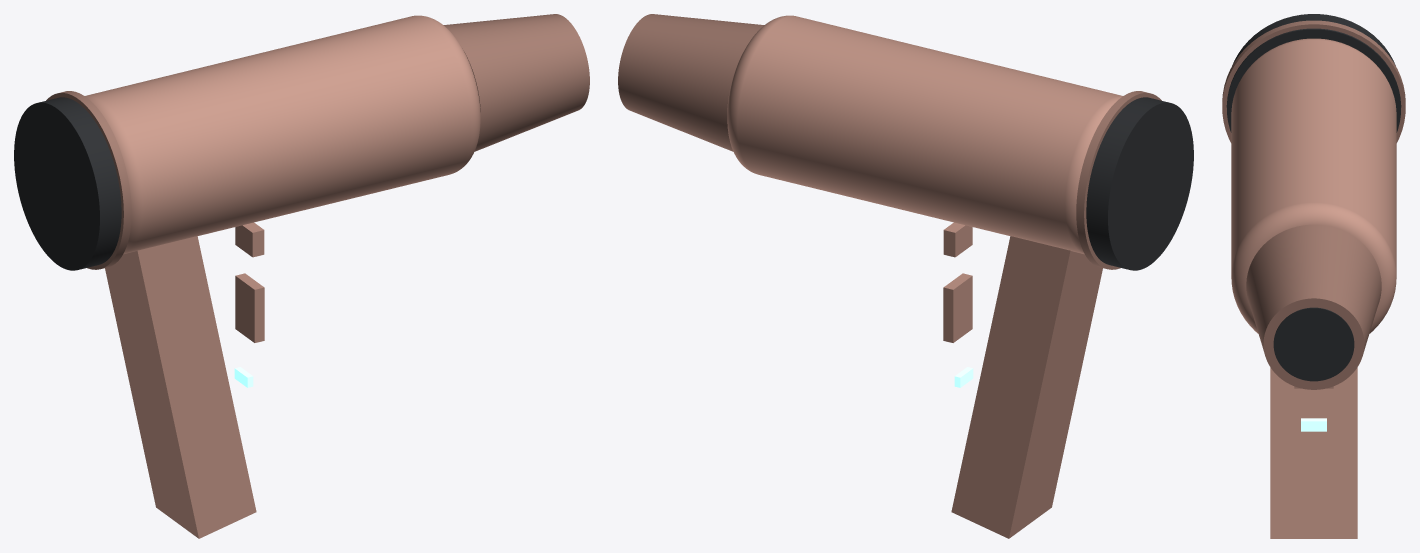
3 renders of one model, left to right at view 1: azimuth 30°, elevation 25°; view 2: azimuth 150°, elevation 25°; view 3: azimuth 270°, elevation 25°, orthographic.
Visible parts, largest first — view 1: body.1, body.2, coat.2, accent.1, accent.2, button.1, button.2; view 2: body.1, body.2, coat.2, accent.1, accent.2, button.1, button.2; view 3: body.1, body.2, accent.1, coat.1, coat.2, accent.2, led.1.
Boxes of the visible parts, left/top/right/bottom form: body.1: left=85, top=15, right=480, bottom=254; body.2: left=105, top=236, right=256, bottom=538; coat.2: left=14, top=97, right=121, bottom=270; accent.1: left=443, top=14, right=589, bottom=151; accent.2: left=46, top=91, right=131, bottom=269; button.1: left=235, top=273, right=264, bottom=342; button.2: left=235, top=222, right=264, bottom=257; body.1: left=727, top=15, right=1122, bottom=254; body.2: left=951, top=236, right=1102, bottom=538; coat.2: left=1086, top=97, right=1193, bottom=270; accent.1: left=618, top=14, right=764, bottom=151; accent.2: left=1076, top=91, right=1161, bottom=269; button.1: left=943, top=273, right=972, bottom=342; button.2: left=943, top=222, right=972, bottom=257; body.1: left=1231, top=38, right=1396, bottom=333; body.2: left=1270, top=367, right=1357, bottom=538; accent.1: left=1246, top=224, right=1381, bottom=389; coat.1: left=1273, top=307, right=1354, bottom=381; coat.2: left=1226, top=14, right=1401, bottom=132; accent.2: left=1222, top=20, right=1405, bottom=142; led.1: left=1301, top=418, right=1326, bottom=431.
Size of the model in its own units: 0.2596 by 0.2183 by 0.08.
